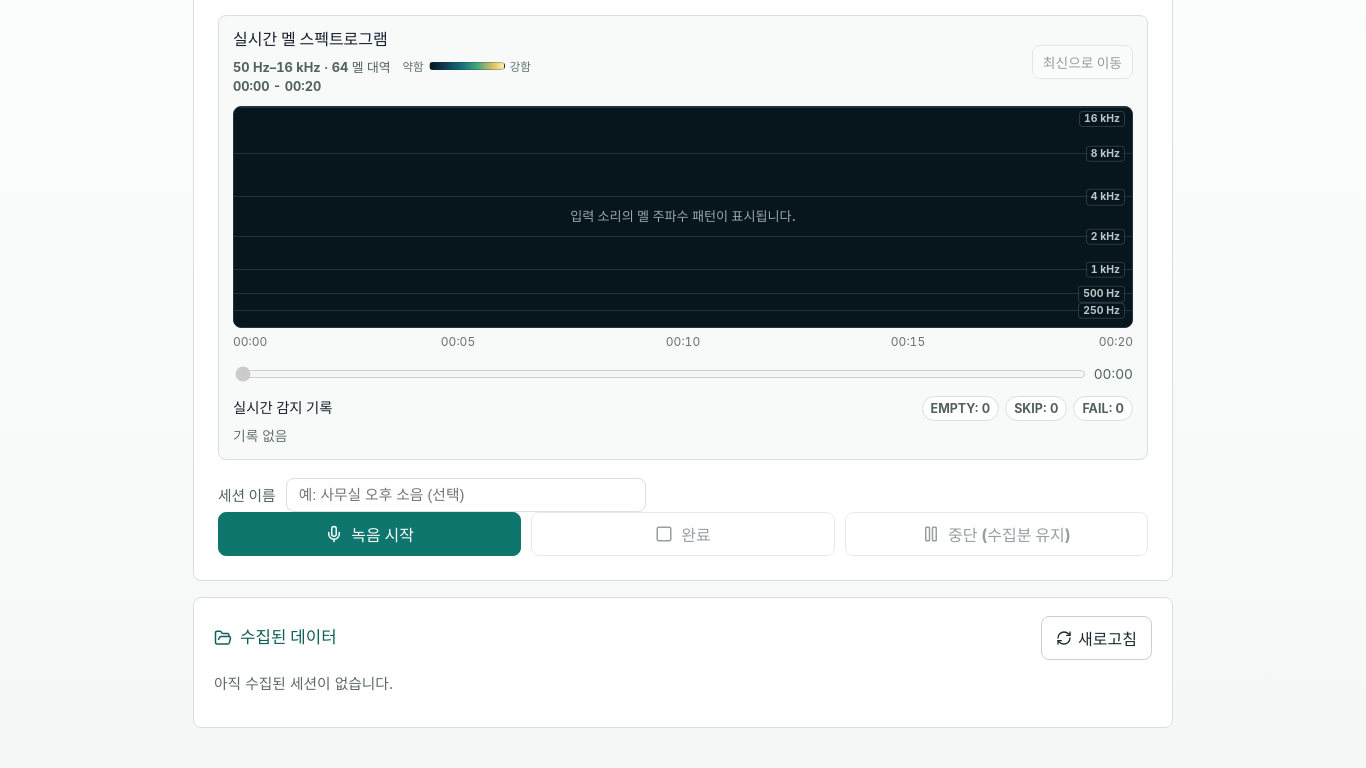
App › uses the backend runtime confidence threshold for live display decisions
(page scrolled)
Click the button "녹음 시작". click: (370, 534)
box: [218,512,521,556]
(page scrolled)
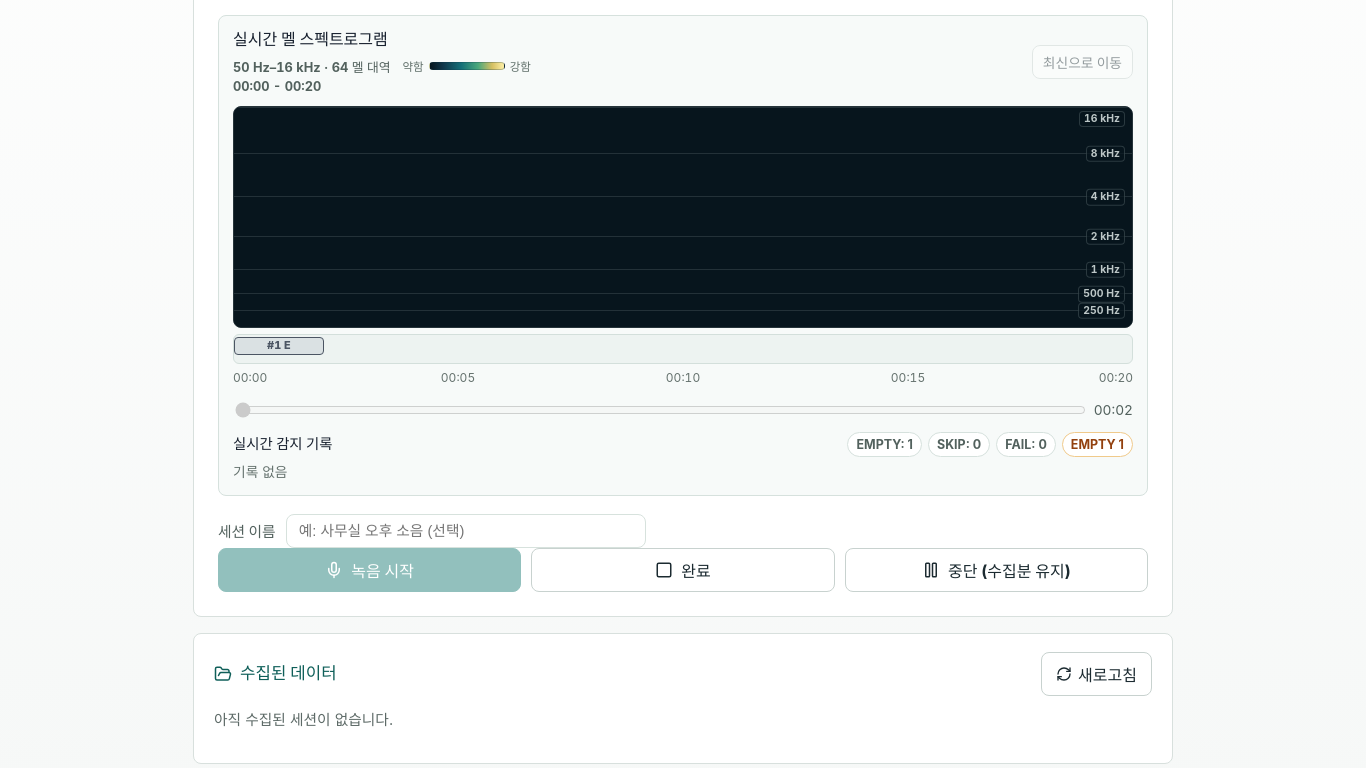
Check: the text "EMPTY 1" is shown, box [1062,432,1133,457]
